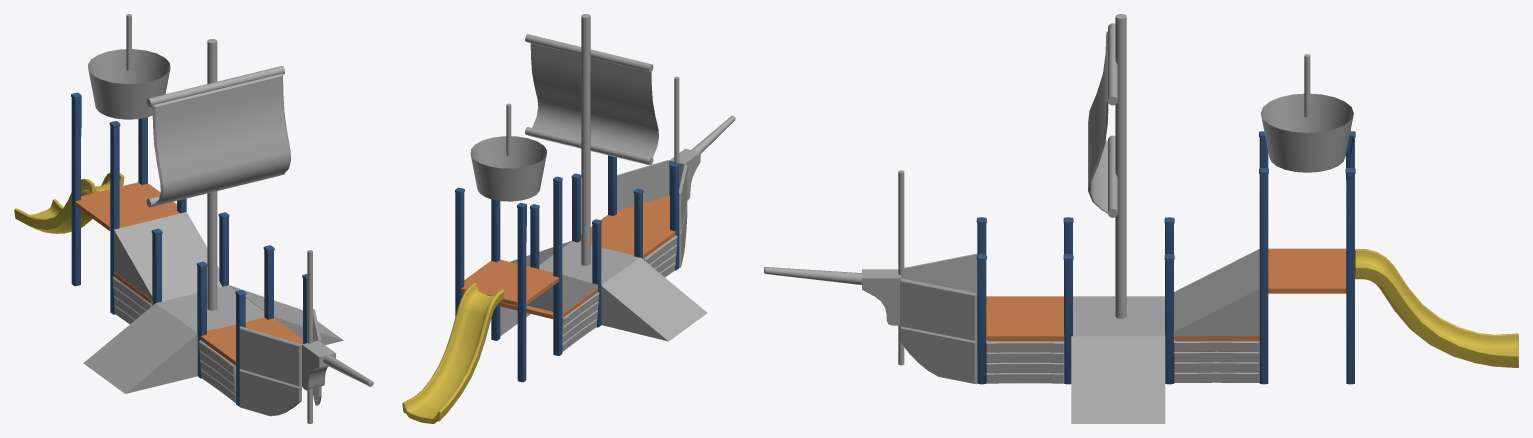
The model's file is playgroundSizeTest.fbx.
3 views of the same model, side by side, from view 1: azimuth 30°, elevation 25°; view 2: azimuth 150°, elevation 25°; view 3: azimuth 270°, elevation 25° (orthographic). The views are drawn at different scales.
Parts seen in each view (by area): view 1: playgroundResize; view 2: playgroundResize; view 3: playgroundResize.
Boxes of the visible parts, box(x1,y1,x2,y2) form: playgroundResize: box(14, 14, 373, 423); playgroundResize: box(402, 14, 735, 423); playgroundResize: box(764, 14, 1518, 423).
Bounding box in the file's own units: 425 × 575 × 1132.
